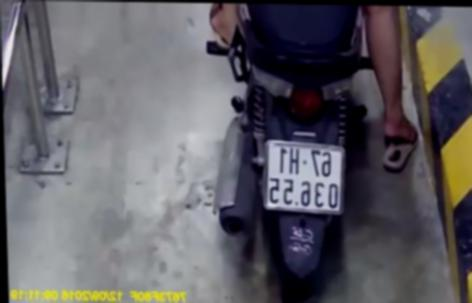License_Plate: (251, 140, 355, 221)
